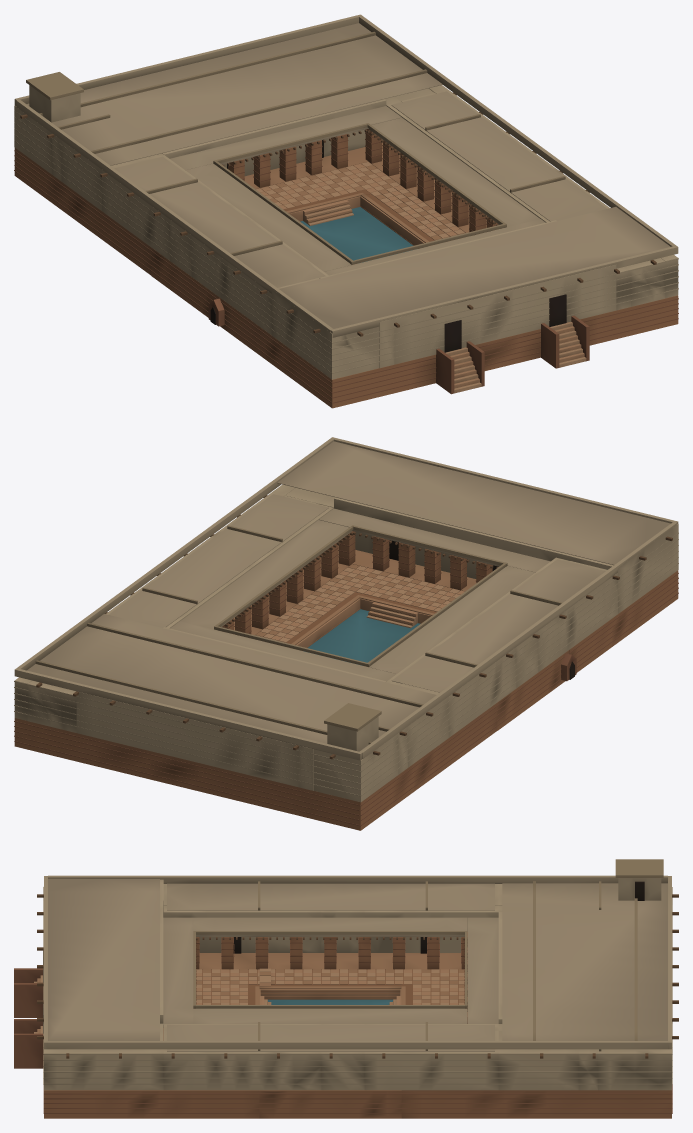
File: great-bath.glb
3 views of the same model, one above another, from view 1: azimuth 30°, elevation 25°; view 2: azimuth 150°, elevation 25°; view 3: azimuth 270°, elevation 25° (orthographic).
Parts seen in each view (by area): view 1: p2_roofs, p1_colonnade and rooms, p0_brick platform and tank; view 2: p2_roofs, p1_colonnade and rooms, p0_brick platform and tank; view 3: p2_roofs, p1_colonnade and rooms, p0_brick platform and tank.
Boxes of the visible parts, box(x1,y1,x2,y2) form: p2_roofs: box(14, 14, 678, 337); p1_colonnade and rooms: box(14, 85, 678, 379); p0_brick platform and tank: box(14, 148, 678, 408); p2_roofs: box(14, 437, 678, 760); p1_colonnade and rooms: box(14, 484, 678, 802); p0_brick platform and tank: box(14, 564, 678, 830); p2_roofs: box(37, 859, 678, 1058); p1_colonnade and rooms: box(43, 879, 672, 1090); p0_brick platform and tank: box(14, 968, 672, 1118).
Bounding box in the file's own units: 34.23 × 8.87 × 55.58.
